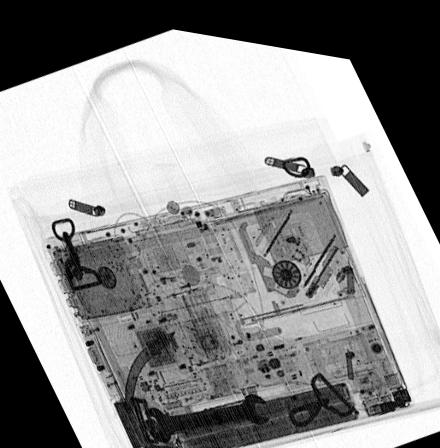Wrench: (142, 383, 269, 439)
